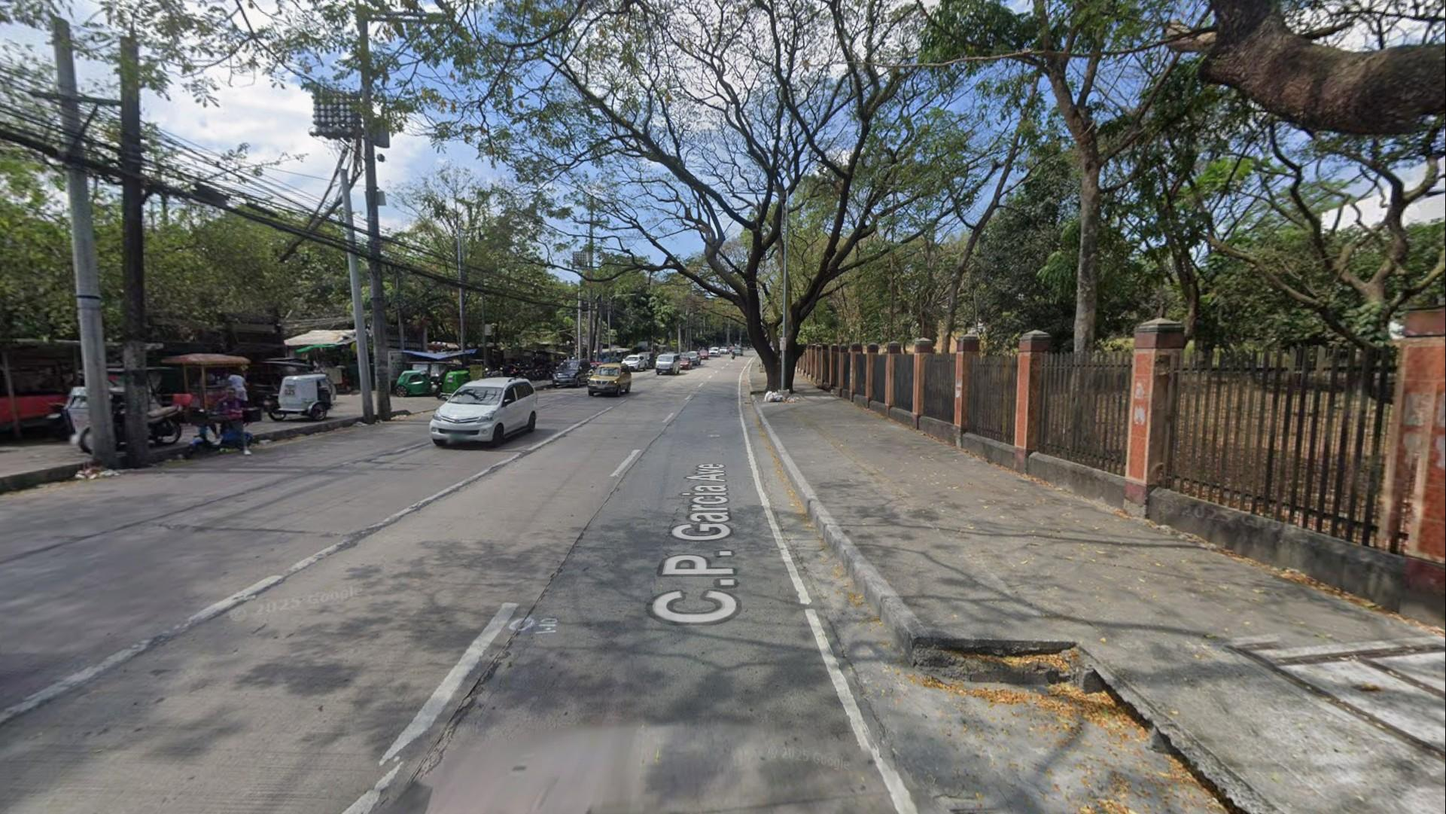pedestrian: (215, 388, 250, 461), (227, 366, 253, 428)
